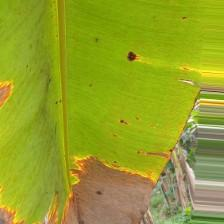cordana: (0, 0, 198, 224)
